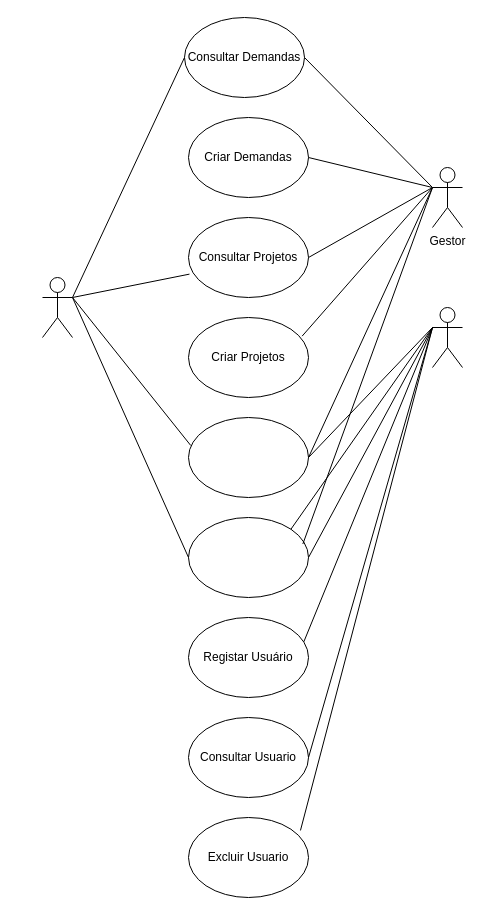
Image size: 501x915. Some labels were removed from this diagram. Each missing label, with the centre of its shape:
Administrador: pixel 447 337
Consultar Perfil: pixel 248 557
Desenvolvedor: pixel 57 307
Login: pixel 248 457
